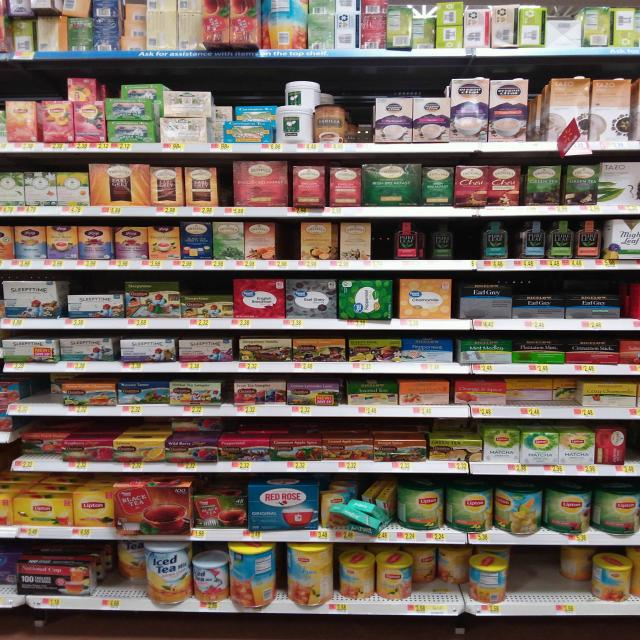empty: (507, 545, 571, 616), (451, 222, 492, 260), (274, 220, 298, 269)
